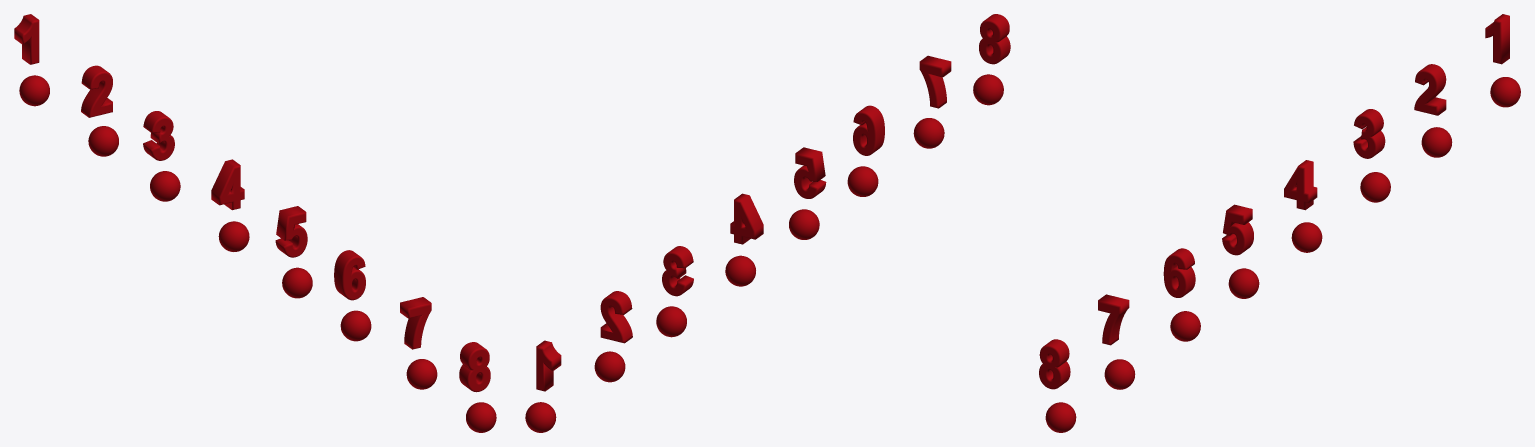
File: Numbers.fbx
3 renders of one model, left to right at view 1: azimuth 30°, elevation 25°; view 2: azimuth 150°, elevation 25°; view 3: azimuth 330°, elevation 25°, orthographic.
Parts seen in each view (by area): view 1: Text5, Text2, Text8, Text6, Text3, Text4, Text7, Text1, Sphere7, Sphere5, Sphere8, Sphere2 (+4 smaller); view 2: Text2, Text5, Text8, Text6, Text3, Text4, Text7, Text1, Sphere2, Sphere8, Sphere5, Sphere4 (+4 smaller); view 3: Text5, Text8, Text6, Text2, Text3, Text4, Text7, Text1, Sphere1, Sphere8, Sphere2, Sphere5 (+4 smaller).
Part boxes in pixels (left/top/right/bottom): Text5: left=275, top=206, right=307, bottom=257; Text2: left=81, top=65, right=112, bottom=117; Text8: left=459, top=342, right=490, bottom=392; Text6: left=334, top=250, right=365, bottom=300; Text3: left=143, top=111, right=174, bottom=160; Text4: left=211, top=159, right=244, bottom=210; Text7: left=400, top=297, right=431, bottom=349; Text1: left=14, top=14, right=39, bottom=64; Sphere7: left=406, top=359, right=437, bottom=389; Sphere5: left=282, top=267, right=312, bottom=298; Sphere8: left=466, top=402, right=496, bottom=432; Sphere2: left=88, top=126, right=118, bottom=156; Text2: left=600, top=291, right=632, bottom=343; Text5: left=794, top=147, right=826, bottom=198; Text8: left=979, top=14, right=1010, bottom=64; Text6: left=853, top=105, right=884, bottom=155; Text3: left=662, top=246, right=693, bottom=296; Text4: left=730, top=193, right=763, bottom=244; Text7: left=919, top=55, right=951, bottom=108; Text1: left=536, top=340, right=561, bottom=391; Sphere2: left=594, top=351, right=625, bottom=382; Sphere8: left=973, top=74, right=1003, bottom=105; Sphere5: left=789, top=209, right=819, bottom=239; Sphere4: left=725, top=255, right=755, bottom=286; Text5: left=1222, top=204, right=1253, bottom=255; Text8: left=1039, top=339, right=1070, bottom=389; Text6: left=1163, top=248, right=1195, bottom=297; Text2: left=1414, top=64, right=1446, bottom=115; Text3: left=1353, top=109, right=1385, bottom=158; Text4: left=1284, top=160, right=1317, bottom=210; Text7: left=1098, top=294, right=1129, bottom=345; Text1: left=1485, top=14, right=1509, bottom=64; Sphere1: left=1490, top=77, right=1520, bottom=107; Sphere8: left=1045, top=402, right=1076, bottom=432; Sphere2: left=1421, top=127, right=1452, bottom=157; Sphere5: left=1228, top=268, right=1259, bottom=298.
Size of the model in its own units: 138 by 359 by 3425.
